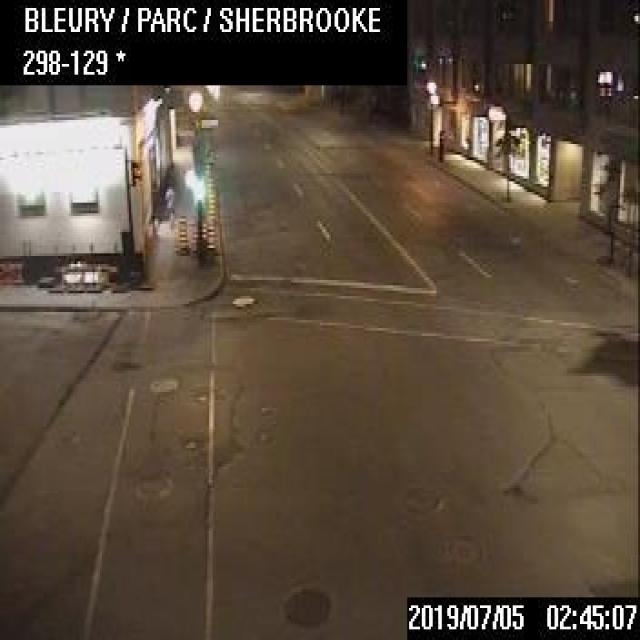construction: (176, 215, 188, 254), (205, 216, 215, 248), (206, 188, 214, 215), (189, 222, 196, 248), (205, 174, 212, 192), (200, 219, 205, 243)
pedestrian: (162, 185, 175, 225)
